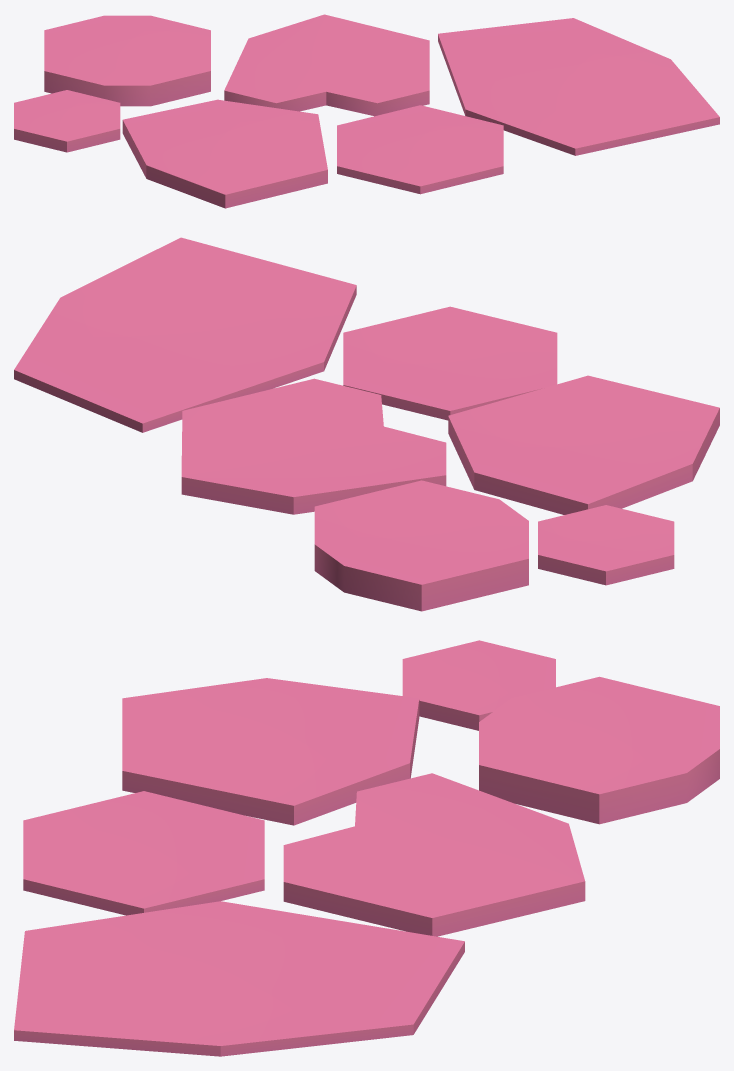
Rendered from Rock_Mars.fbx.
3 views of the same model, one above another, from view 1: azimuth 30°, elevation 25°; view 2: azimuth 150°, elevation 25°; view 3: azimuth 270°, elevation 25° (orthographic). The views are drawn at different scales.
Visible parts, largest first — view 1: Rock_01, Rock_05, Rock_02, Rock_04, Rock_03, Rocks_mars; view 2: Rock_01, Rock_05, Rock_02, Rock_04, Rock_03, Rocks_mars; view 3: Rock_01, Rock_02, Rock_05, Rock_04, Rock_03, Rocks_mars.
Part boxes in pixels (left/top/right/bottom): Rock_01: left=438, top=18, right=719, bottom=155; Rock_05: left=122, top=99, right=327, bottom=208; Rock_02: left=224, top=14, right=429, bottom=116; Rock_04: left=44, top=15, right=210, bottom=106; Rock_03: left=337, top=105, right=503, bottom=194; Rocks_mars: left=14, top=90, right=120, bottom=152; Rock_01: left=14, top=237, right=356, bottom=432; Rock_05: left=448, top=375, right=719, bottom=514; Rock_02: left=181, top=378, right=446, bottom=514; Rock_04: left=314, top=480, right=528, bottom=611; Rock_03: left=343, top=306, right=557, bottom=420; Rocks_mars: left=538, top=505, right=674, bottom=585; Rock_01: left=14, top=901, right=464, bottom=1056; Rock_02: left=283, top=773, right=585, bottom=936; Rock_05: left=122, top=678, right=419, bottom=825; Rock_04: left=479, top=676, right=719, bottom=824; Rock_03: left=23, top=791, right=264, bottom=915; Rocks_mars: left=402, top=640, right=555, bottom=730.
Size of the model in its own units: 202 by 7.06 by 150.
1 material, 1 textured.
